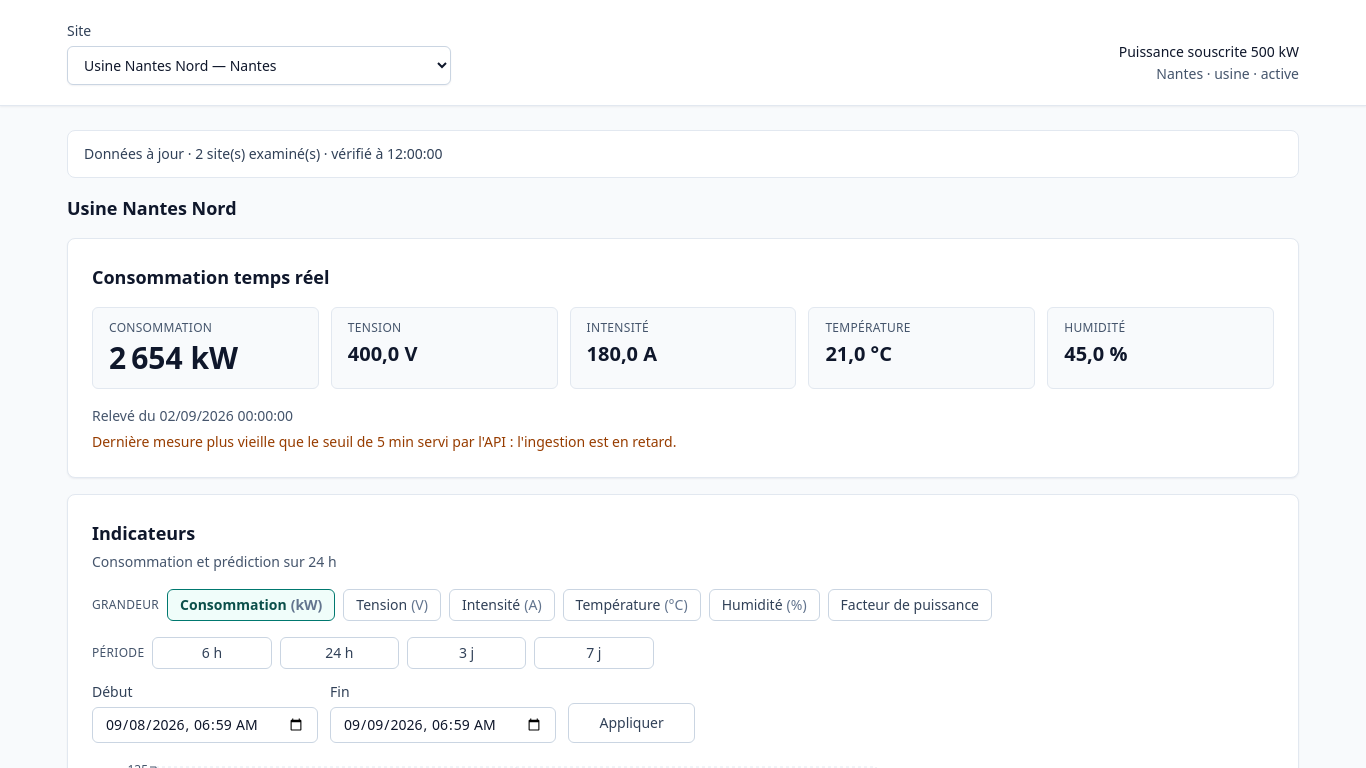
Test case: SiteDashboardPage · grandeur tracée › change de grandeur sans relire les mesures
Click the button "Température (°C)".
click(632, 605)  # box left=563, top=589, right=701, bottom=621
(page scrolled)
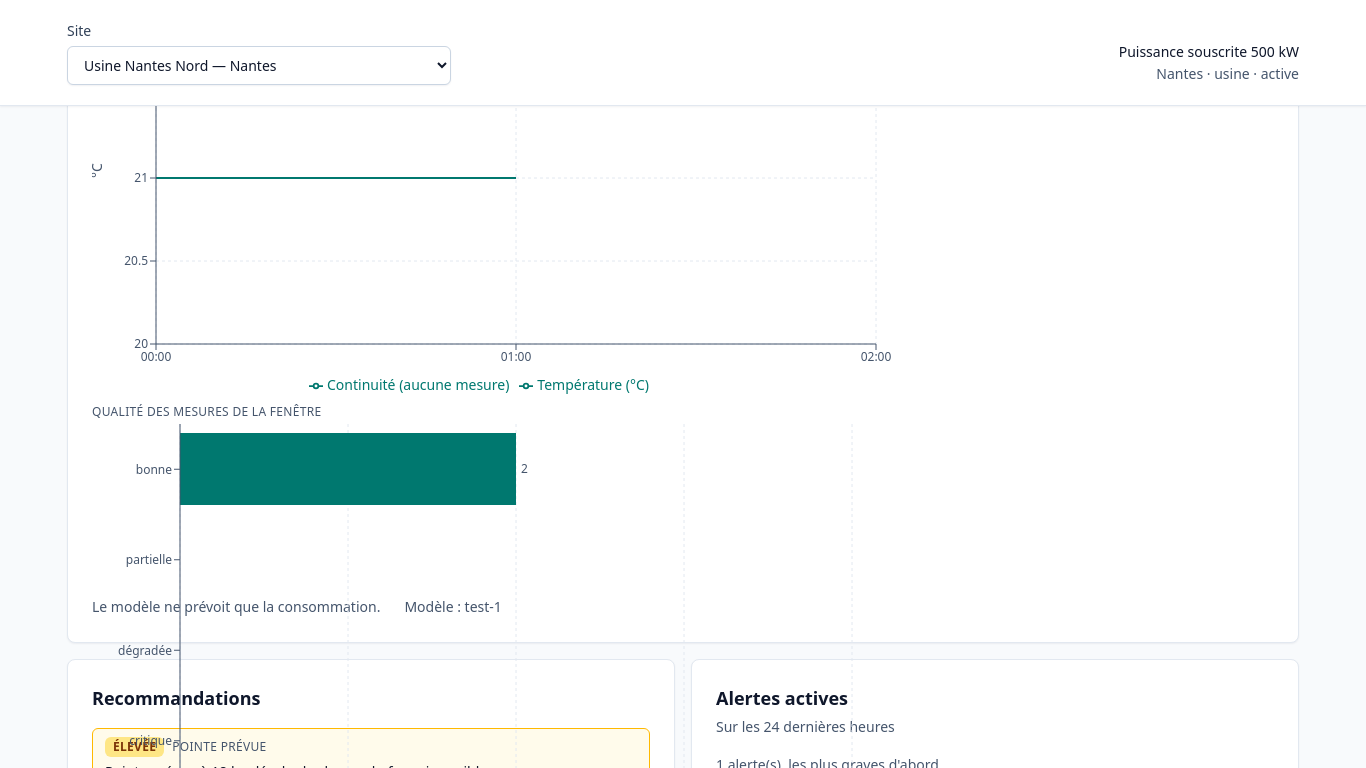
Result: the text "Température (°C)" is shown at left=537, top=375, right=649, bottom=394
